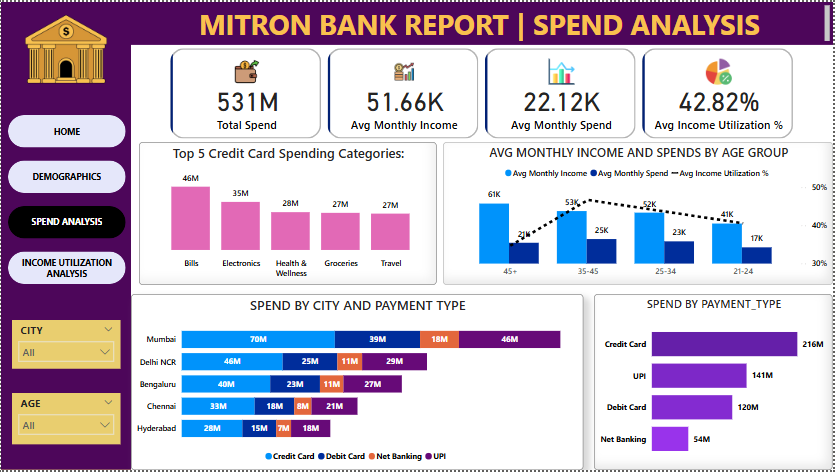

The dashboard page shown, as its layout file describes it:
{"tool":"powerbi","page":{"name":"SPEND ANALYSIS","canvas":[1280,720],"ordinal":2},"visuals":[{"type":"shape","box":[0,0,1280.2,66.2],"z":0},{"type":"shape","box":[0,0,200.2,720],"z":1000},{"type":"image","box":[0,0,200.2,158.4],"z":2000},{"type":"textbox","box":[200.2,0,1080,66.2],"z":3000},{"type":"cardVisual","fields":{"Data":["spends.Total Spend","spends.Avg Monthly Income","spends.Avg Monthly Spend","customer.Avg Income Utilization %"]},"box":[254.9,66.2,969.1,149.8],"z":4000},{"type":"lineClusteredColumnComboChart","title":"AVG MONTHLY INCOME AND SPENDS BY AGE GROUP","fields":{"Category":["customer.age_group"],"Y":["spends.Avg Monthly Income","spends.Avg Monthly Spend"],"Y2":["customer.Avg Income Utilization %"]},"box":[679.7,216,600.5,220.3],"z":5000},{"type":"clusteredBarChart","title":"SPEND BY PAYMENT_TYPE","fields":{"Y":["spends.Total Spend"],"Category":["spends.payment_type"]},"box":[913,449.3,367.2,270.7],"z":6000},{"type":"barChart","title":"SPEND BY CITY AND PAYMENT TYPE","fields":{"Category":["customer.city"],"Y":["spends.Total Spend"],"Series":["spends.payment_type"]},"box":[200.2,449.3,695.5,270.7],"z":7000},{"type":"columnChart","title":"Top 5 Credit Card Spending Categories:","fields":{"Y":["spends.CREDIT CARD"],"Category":["spends.category"]},"box":[211.7,216,457.9,220.3],"z":8000},{"type":"pageNavigator","box":[10.1,174.2,181.4,260.6],"z":9000},{"type":"slicer","fields":{"Values":["customer.city"]},"box":[17.3,489.6,167,74.9],"z":10000},{"type":"slicer","fields":{"Values":["customer.age_group"]},"box":[17.3,601.9,167,79.2],"z":11000}]}

Visuals, with their boxes in screenshot pixels (x1, y1, x2, y2), scaled from the page's 1280x720 canvas onto the 837x472 screenshot:
shape: {"left": 0, "top": 0, "right": 836, "bottom": 43}
shape: {"left": 0, "top": 0, "right": 131, "bottom": 471}
image: {"left": 0, "top": 0, "right": 131, "bottom": 104}
textbox: {"left": 131, "top": 0, "right": 836, "bottom": 43}
cardVisual - spends.Total Spend x spends.Avg Monthly Income: {"left": 167, "top": 43, "right": 800, "bottom": 142}
"AVG MONTHLY INCOME AND SPENDS BY AGE GROUP" lineClusteredColumnComboChart: {"left": 444, "top": 142, "right": 836, "bottom": 286}
"SPEND BY PAYMENT_TYPE" clusteredBarChart: {"left": 597, "top": 295, "right": 836, "bottom": 471}
"SPEND BY CITY AND PAYMENT TYPE" barChart: {"left": 131, "top": 295, "right": 586, "bottom": 471}
"Top 5 Credit Card Spending Categories:" columnChart: {"left": 138, "top": 142, "right": 438, "bottom": 286}
pageNavigator: {"left": 7, "top": 114, "right": 125, "bottom": 285}
slicer - customer.city: {"left": 11, "top": 321, "right": 121, "bottom": 370}
slicer - customer.age_group: {"left": 11, "top": 395, "right": 121, "bottom": 446}
